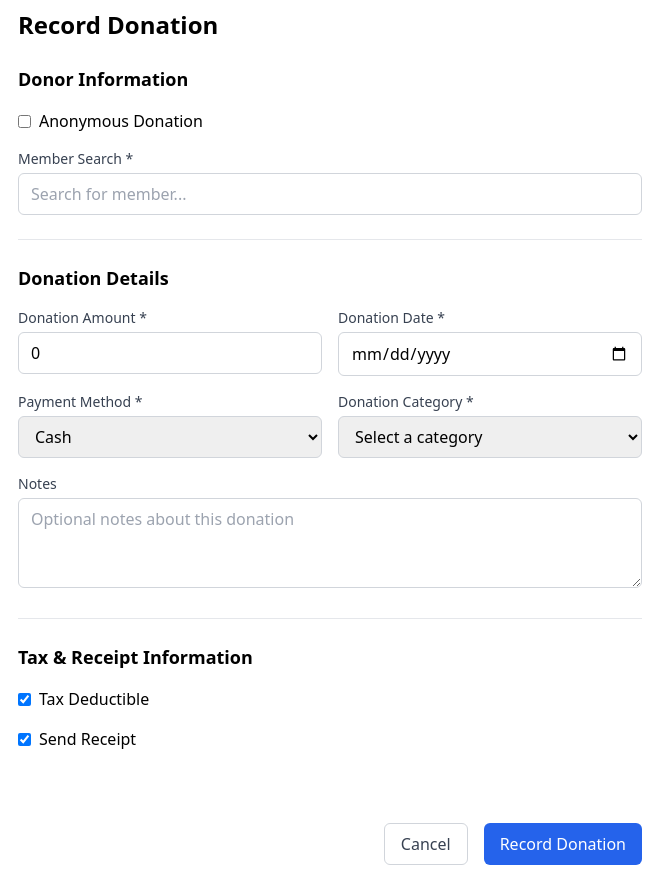
Test: DonationForm › Form Fields › should show check number field when payment method is check
Select "Check" in the dropdown labelled "Payment Method *": coordinates (170, 437) [18,416,322,458]
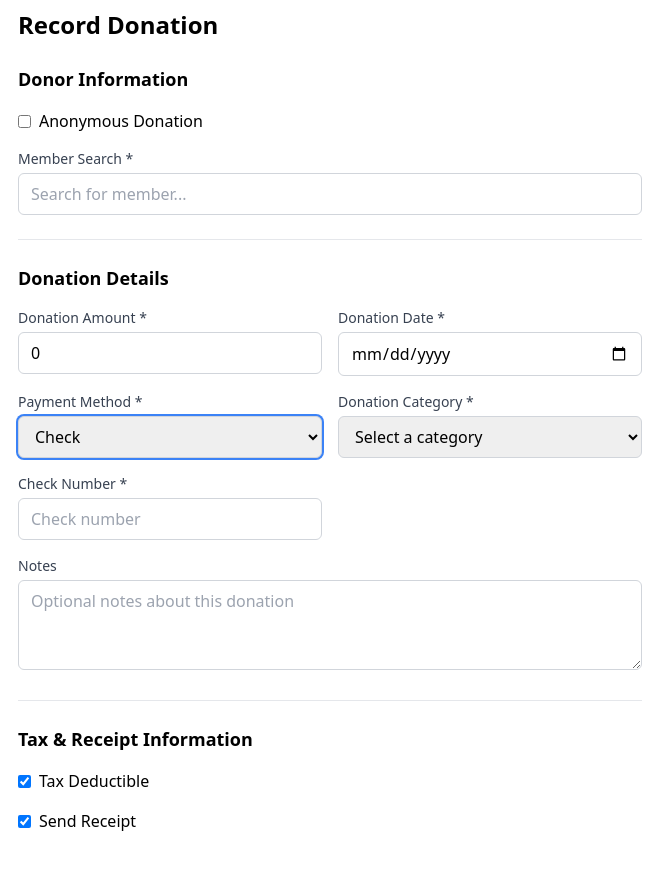
Expected: the field labelled "Check Number *" is shown, [18,498,322,540]
